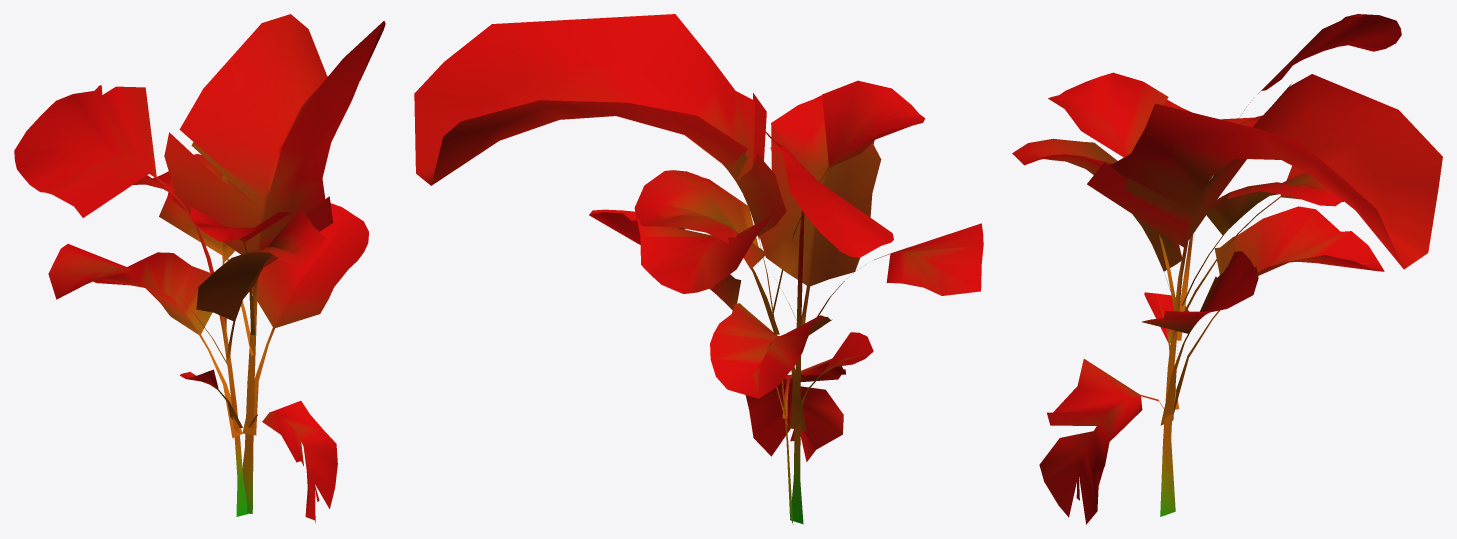
Rendered from Areca Palm_LOD2_Var5_shFjC.fbx.
3 views of the same model, side by side, from view 1: azimuth 30°, elevation 25°; view 2: azimuth 150°, elevation 25°; view 3: azimuth 270°, elevation 25° (orthographic). The views are drawn at different scales.
Visible parts, largest first — view 1: _08d5_Var5_LOD2; view 2: _08d5_Var5_LOD2; view 3: _08d5_Var5_LOD2.
Part boxes in pixels (bbox=[...]): _08d5_Var5_LOD2: bbox=[14, 14, 385, 523]; _08d5_Var5_LOD2: bbox=[414, 14, 983, 524]; _08d5_Var5_LOD2: bbox=[1012, 14, 1442, 524].
Bounding box in the file's own units: 250 × 244 × 195.
